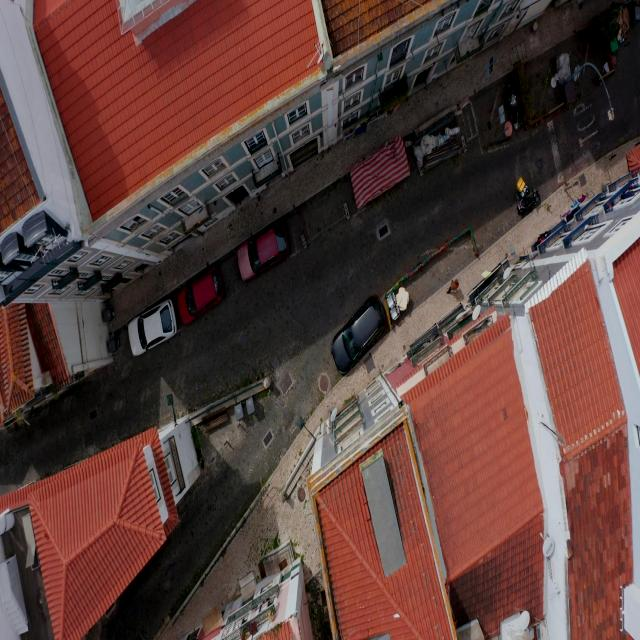Car: (326, 294, 393, 380), (236, 226, 310, 283), (124, 299, 175, 372), (172, 270, 232, 332)
